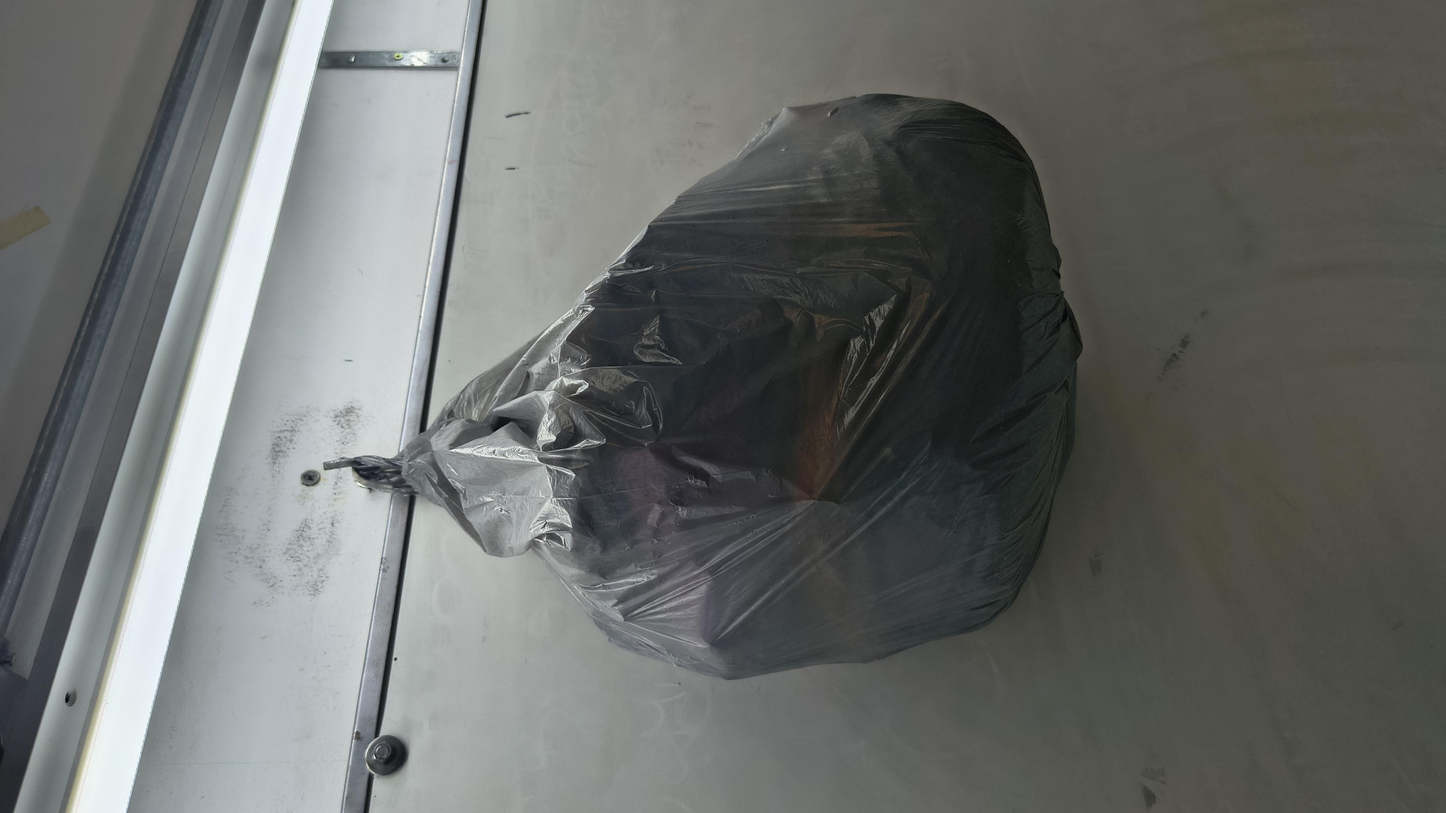Garbage: (207, 220, 1400, 631)
